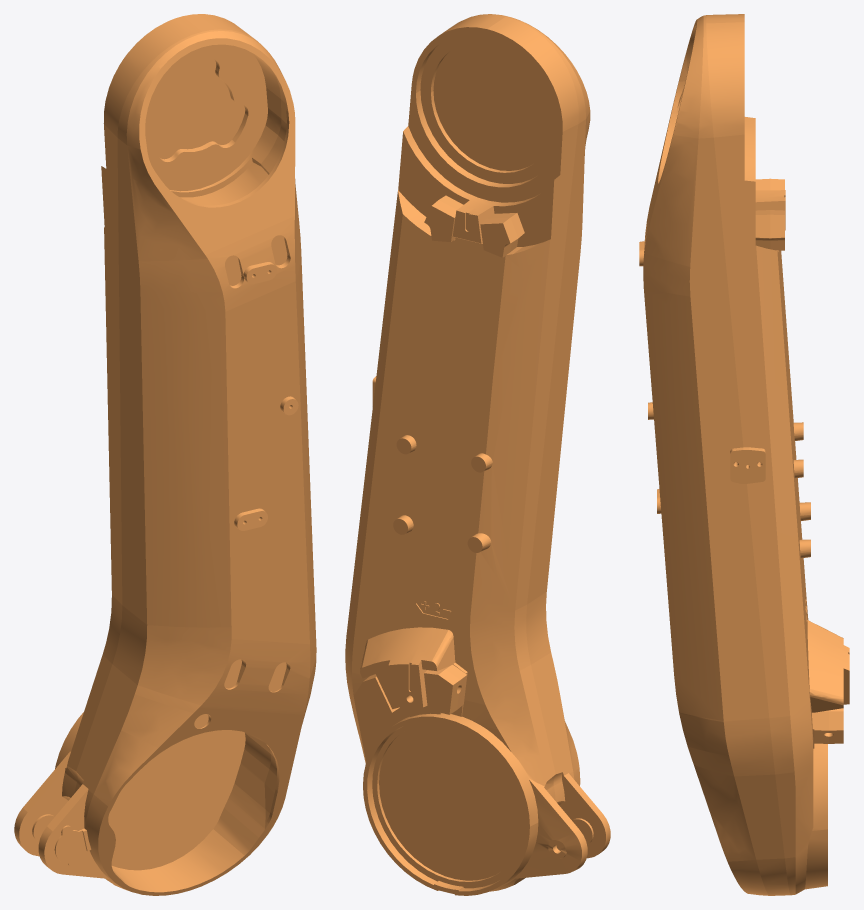
3 renders of one model, left to right at view 1: azimuth 30°, elevation 25°; view 2: azimuth 150°, elevation 25°; view 3: azimuth 270°, elevation 25°, orthographic. The views are drawn at different scales.
Visible parts, largest first — view 1: mesh_0; view 2: mesh_0; view 3: mesh_0.
Boxes of the visible parts, bbox=[...] form: mesh_0: bbox=[14, 14, 316, 895]; mesh_0: bbox=[345, 14, 610, 895]; mesh_0: bbox=[639, 14, 849, 895].
Size of the model in its own units: 0.4998 by 1.62 by 0.358.
